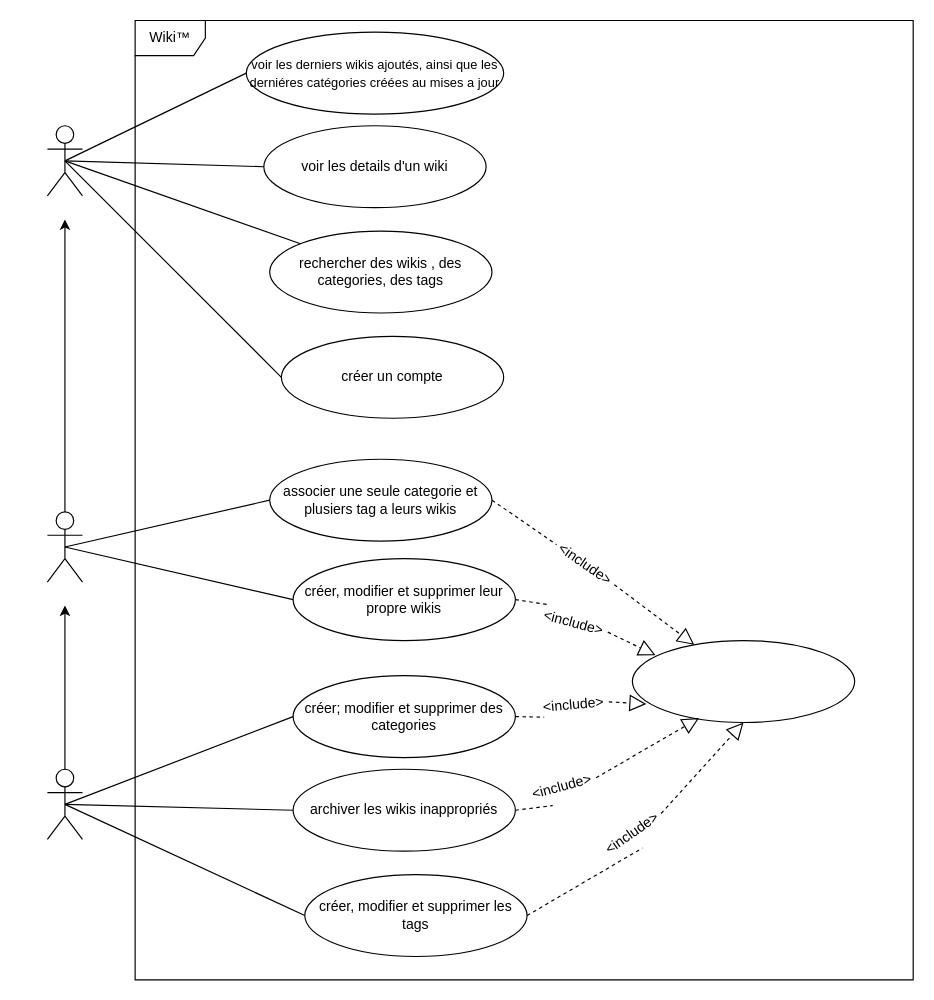
Some shapes in this 934 by 1000 pixel diagram are drawn without their labels. Here are the shapes that lost their labels. From the top down, the centre of each, then its label:
At (x=64, y=160): "utilisateur".
At (x=64, y=546): "auteur".
At (x=743, y=680): "authentification".
At (x=64, y=803): "administrateur".
